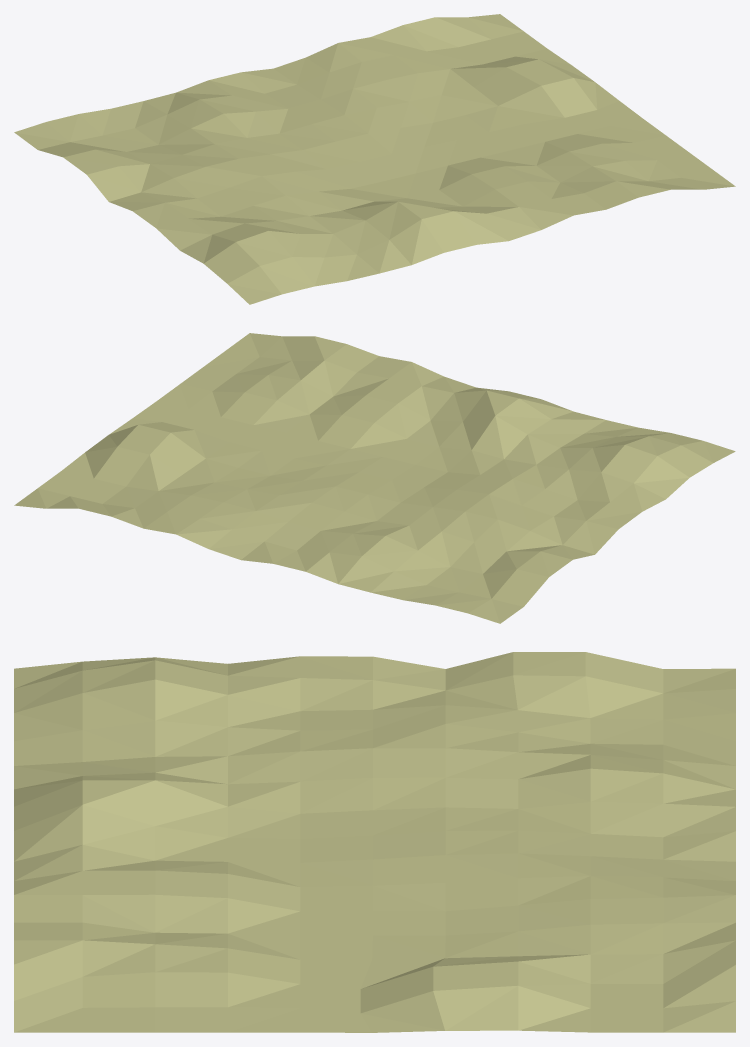
The model's file is Floor01.fbx.
The picture shows the model from 3 angles, top to bottom: view 1: azimuth 30°, elevation 25°; view 2: azimuth 150°, elevation 25°; view 3: azimuth 270°, elevation 25°; orthographic projection. The views are drawn at different scales.
Parts seen in each view (by area): view 1: polySurface20; view 2: polySurface20; view 3: polySurface20.
Part boxes in pixels (box(x1,y1,x2,y2)): polySurface20: box(14, 14, 735, 304); polySurface20: box(14, 333, 735, 623); polySurface20: box(14, 652, 735, 1032).
Bounding box in the file's own units: 7.15 × 0.3758 × 6.
